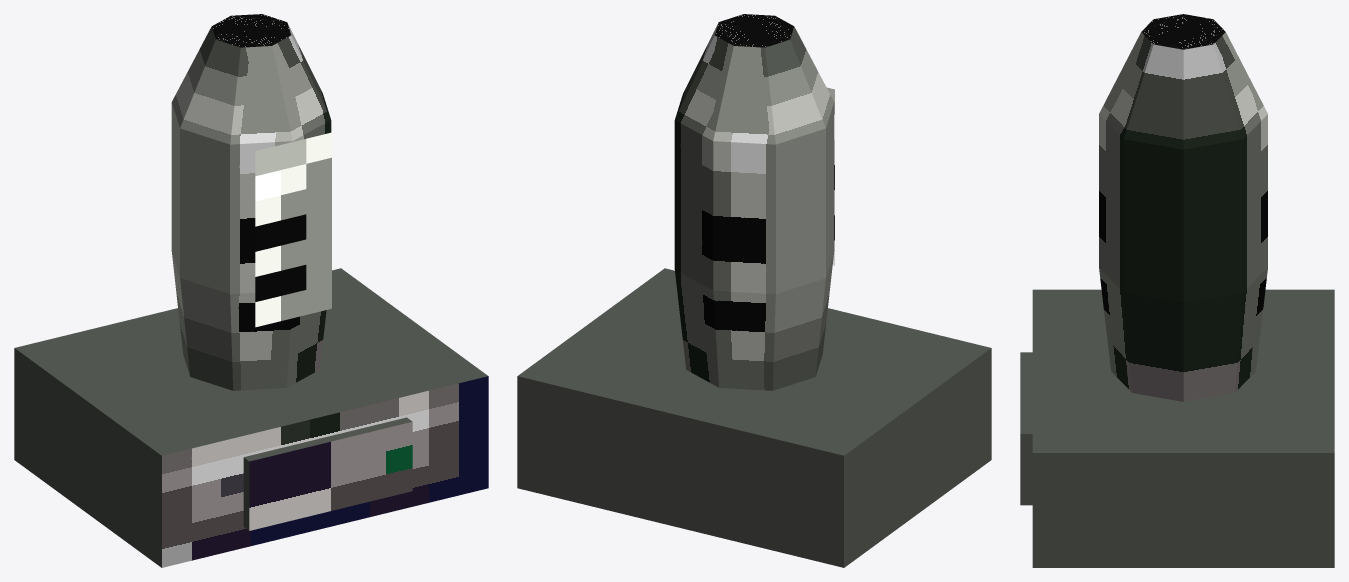
The model's file is ectoscopic_sniffer.glb.
3 renders of one model, left to right at view 1: azimuth 30°, elevation 25°; view 2: azimuth 150°, elevation 25°; view 3: azimuth 270°, elevation 25°, orthographic. The views are drawn at different scales.
Visible parts, largest first — view 1: Sniffer_Body, Sensor_Window, Service_Hatch; view 2: Sniffer_Body; view 3: Sniffer_Body, Service_Hatch.
Boxes of the visible parts, <box> form: Sniffer_Body: <box>14,14,488,567</box>; Sensor_Window: <box>255,132,331,327</box>; Service_Hatch: <box>243,417,412,530</box>; Sniffer_Body: <box>517,14,991,567</box>; Sniffer_Body: <box>1032,14,1334,567</box>; Service_Hatch: <box>1020,352,1032,505</box>.
Bounding box in the file's own units: 0.64 × 0.83 × 0.52.
Materials: 2 (2 with a texture image).
